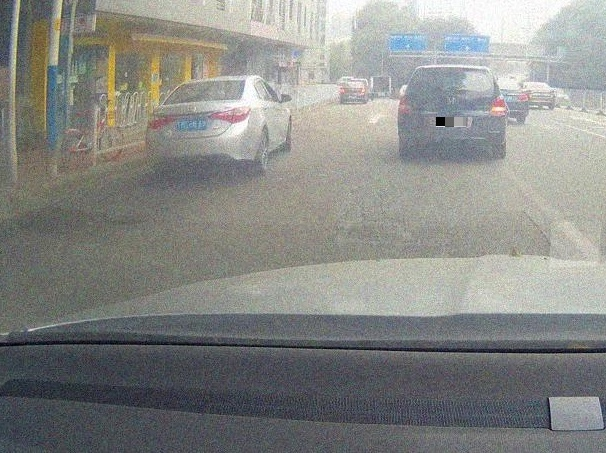L_light: (147, 113, 173, 129), (398, 99, 413, 116)
R_light: (209, 106, 250, 124), (491, 97, 507, 116)
T_light: (447, 68, 462, 72), (202, 82, 218, 84)
day-no: (145, 76, 252, 180), (397, 65, 508, 158)
plate_1: (436, 117, 466, 127)
